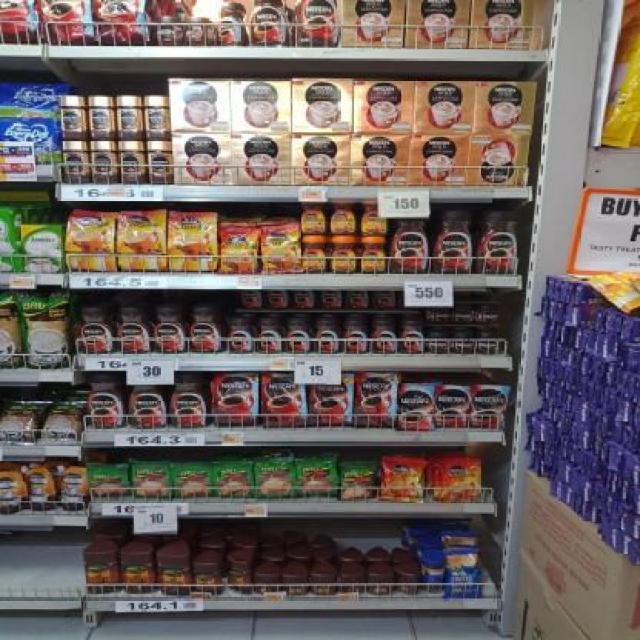Coffee: (118, 212, 168, 272), (66, 211, 114, 272), (168, 213, 217, 272), (476, 211, 518, 274), (392, 211, 433, 274), (213, 374, 260, 426), (435, 210, 473, 273), (262, 373, 307, 425), (356, 372, 396, 426), (130, 374, 167, 428), (88, 374, 124, 428), (313, 374, 350, 426), (171, 375, 206, 428), (295, 1, 337, 45), (261, 228, 301, 274), (219, 227, 258, 271), (249, 0, 286, 46), (398, 384, 434, 431), (384, 459, 424, 501), (440, 459, 480, 501), (470, 386, 508, 428), (434, 386, 469, 428), (79, 310, 112, 352), (118, 310, 150, 352), (153, 310, 185, 352), (187, 310, 219, 352), (216, 5, 246, 46), (59, 95, 86, 139), (145, 96, 170, 140), (88, 96, 114, 138), (118, 142, 144, 183), (149, 140, 173, 183), (64, 141, 88, 184), (92, 141, 116, 182), (359, 236, 386, 272), (360, 202, 388, 236), (115, 98, 140, 136), (329, 237, 356, 272), (284, 318, 310, 354), (371, 318, 397, 354), (401, 318, 425, 354), (155, 16, 183, 46), (229, 318, 253, 353), (342, 321, 367, 354), (256, 319, 280, 353), (315, 320, 339, 354), (300, 203, 326, 234), (331, 201, 355, 234), (304, 238, 328, 270), (184, 20, 211, 46), (346, 289, 371, 309), (372, 290, 397, 310), (238, 290, 262, 310), (318, 291, 342, 309), (452, 334, 474, 352), (266, 292, 290, 308), (294, 289, 312, 309), (479, 335, 499, 353), (428, 333, 449, 350), (480, 308, 498, 326), (431, 307, 451, 322), (453, 308, 473, 323)
